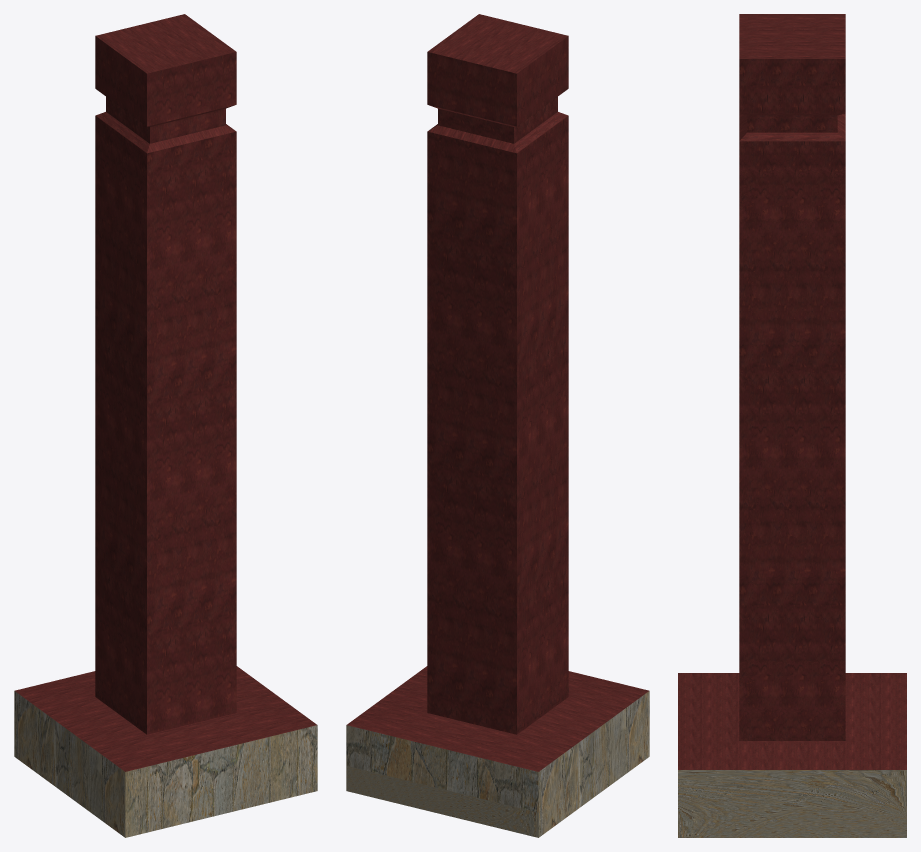
Rendered from ColumnaPuente.fbx.
3 views of the same model, side by side, from view 1: azimuth 30°, elevation 25°; view 2: azimuth 150°, elevation 25°; view 3: azimuth 270°, elevation 25° (orthographic). The views are drawn at different scales.
Visible parts, largest first — view 1: ColumnaPuente; view 2: ColumnaPuente; view 3: ColumnaPuente.
Boxes of the visible parts, x1,y1,x2,y2 form: ColumnaPuente: (14, 14, 317, 837); ColumnaPuente: (346, 14, 649, 837); ColumnaPuente: (678, 14, 906, 837).
Bounding box in the file's own units: 429 × 1558 × 429.
